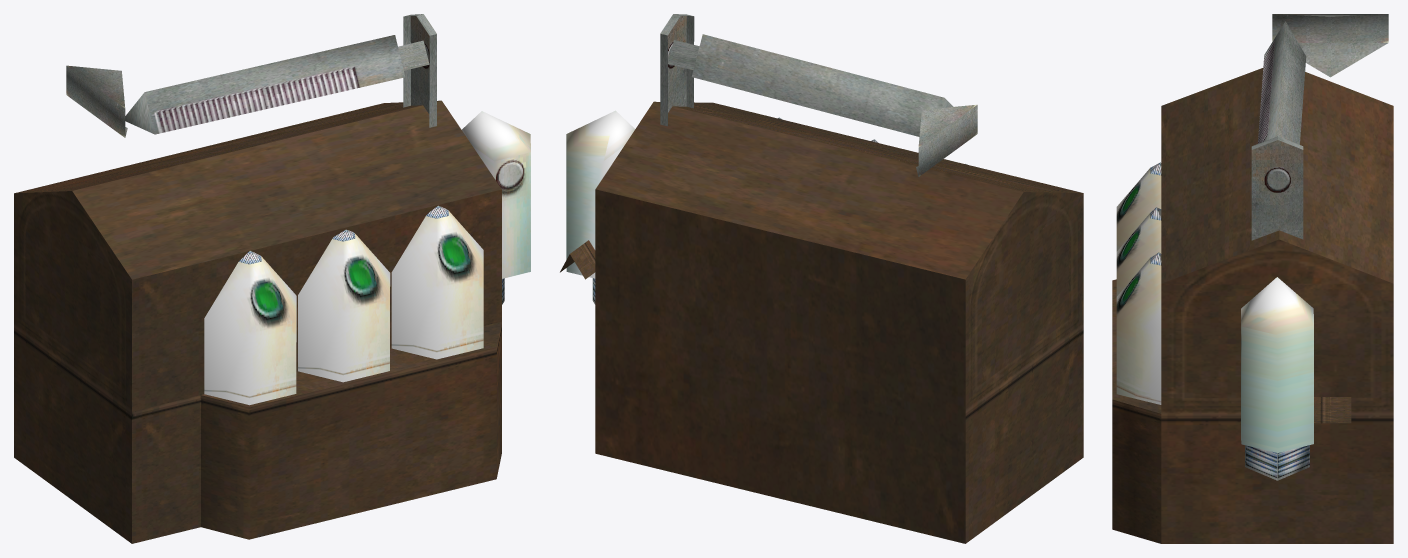
Rendered from eqp_tailor_clothing_dye_kit_s1_l1.fbx.
3 views of the same model, side by side, from view 1: azimuth 30°, elevation 25°; view 2: azimuth 150°, elevation 25°; view 3: azimuth 270°, elevation 25° (orthographic).
Parts seen in each view (by area): view 1: mesh_node; view 2: mesh_node; view 3: mesh_node.
Boxes of the visible parts, <box> form: mesh_node: <box>14,14,530,543</box>; mesh_node: <box>560,14,1083,543</box>; mesh_node: <box>1112,14,1393,543</box>.
Size of the model in its own units: 0.4628 by 0.3873 by 0.2502.
